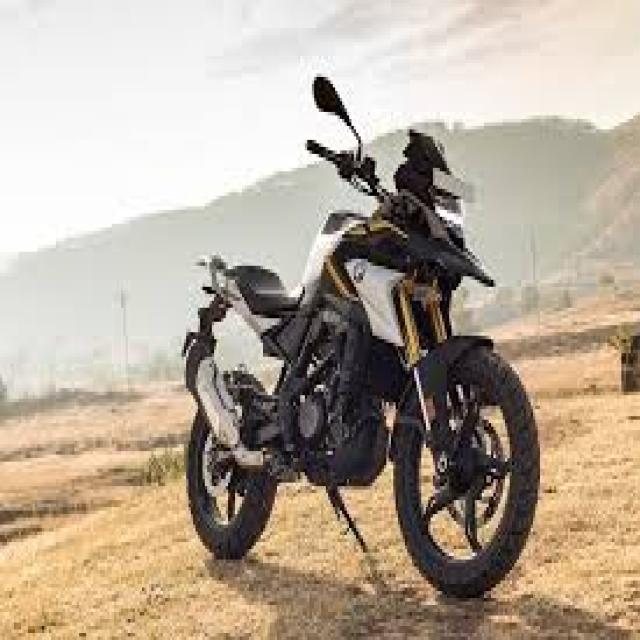bike: (180, 72, 540, 596)
